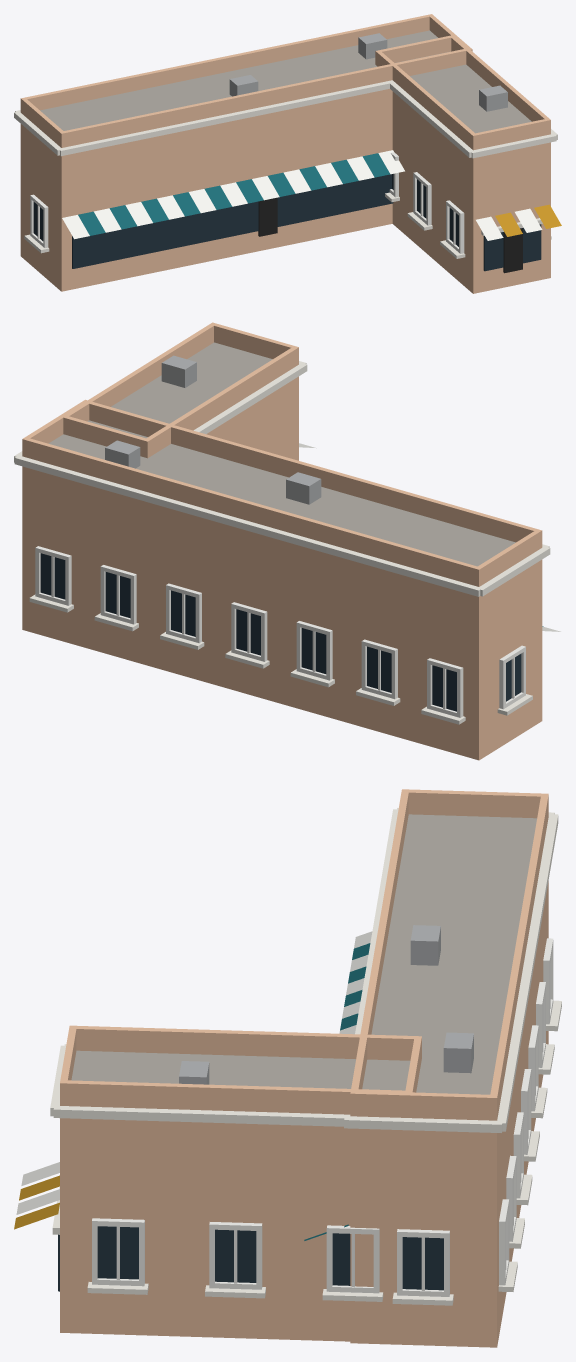
3 renders of one model, top to bottom at view 1: azimuth 30°, elevation 25°; view 2: azimuth 150°, elevation 25°; view 3: azimuth 270°, elevation 25°, orthographic. The views are drawn at different scales.
Visible parts, largest first — view 1: b1217; view 2: b1217; view 3: b1217.
Part boxes in pixels (bbox=[...]): b1217: bbox=[14, 14, 561, 293]; b1217: bbox=[14, 322, 560, 760]; b1217: bbox=[14, 789, 561, 1347].
Size of the model in its own units: 8160 by 3010 by 5930.
